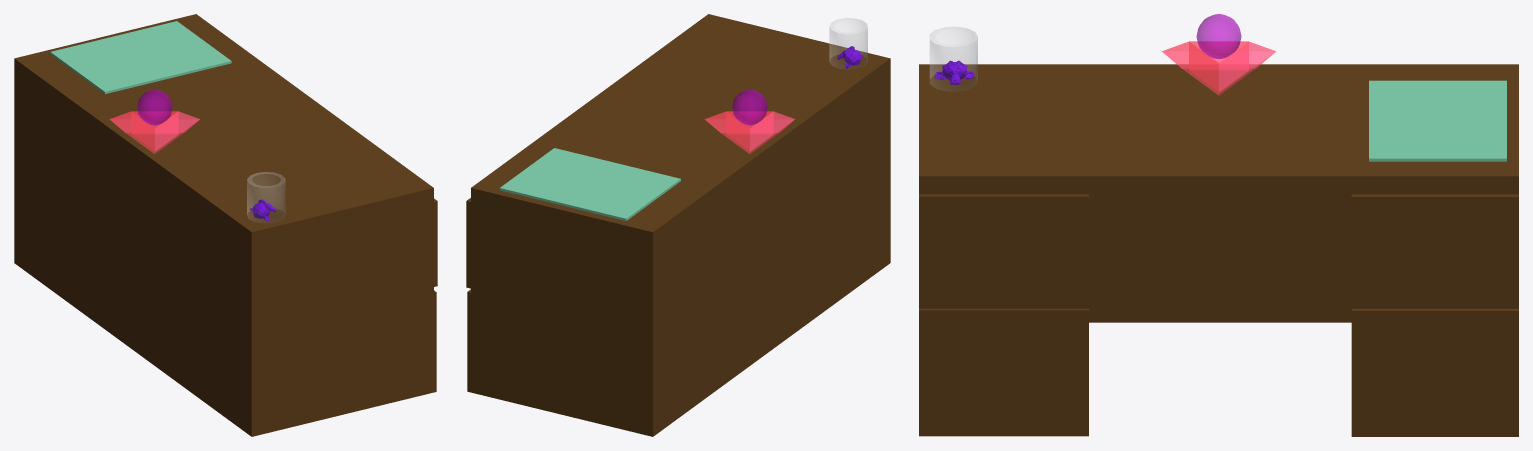
Rendered from alchemy_table.fbx.
3 views of the same model, side by side, from view 1: azimuth 30°, elevation 25°; view 2: azimuth 150°, elevation 25°; view 3: azimuth 270°, elevation 25° (orthographic). The views are drawn at different scales.
Visible parts, largest first — view 1: Cube, Cube.001, Torus, Cylinder, Sphere; view 2: Cube, Cube.001, Torus, Cylinder, Sphere; view 3: Cube, Cube.001, Torus, Cylinder, Sphere, Suzanne.
Boxes of the visible parts, x1=… form: Cube: x1=14, y1=14, x2=437, y2=436; Cube.001: x1=50, y1=21, x2=231, y2=93; Torus: x1=109, y1=111, x2=199, y2=153; Cylinder: x1=247, y1=172, x2=285, y2=222; Sphere: x1=137, y1=89, x2=172, y2=125; Cube: x1=466, y1=14, x2=890, y2=436; Cube.001: x1=499, y1=148, x2=680, y2=220; Torus: x1=704, y1=111, x2=795, y2=153; Cylinder: x1=829, y1=18, x2=867, y2=68; Sphere: x1=732, y1=89, x2=767, y2=125; Cube: x1=919, y1=64, x2=1518, y2=436; Cube.001: x1=1369, y1=80, x2=1506, y2=161; Torus: x1=1162, y1=41, x2=1275, y2=95; Cylinder: x1=930, y1=27, x2=977, y2=91; Sphere: x1=1196, y1=14, x2=1241, y2=58; Suzanne: x1=934, y1=60, x2=974, y2=84.
Size of the model in its own units: 206 by 266 by 452.
